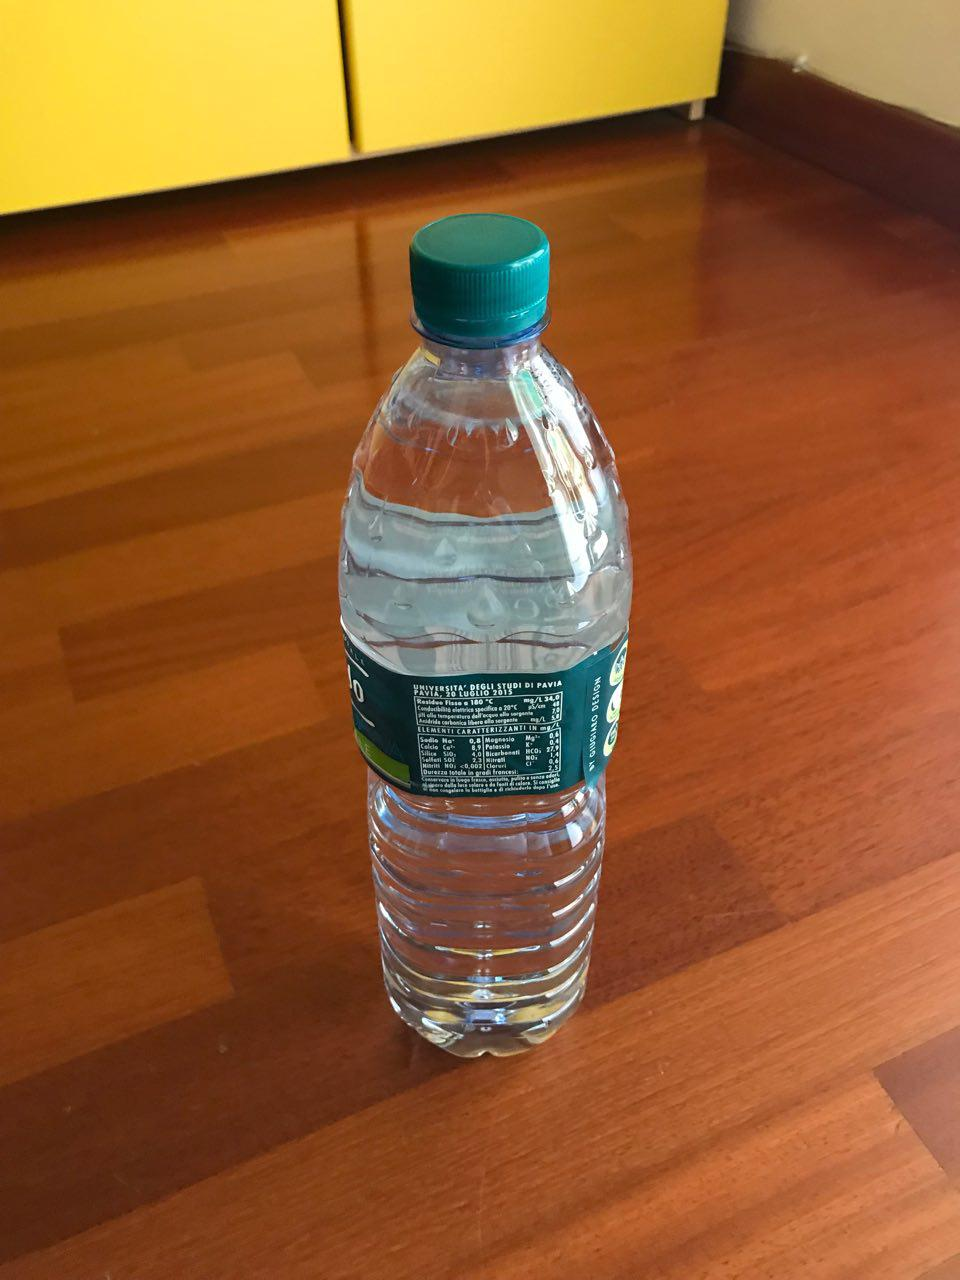san_bernardo: (335, 210, 635, 1063)
